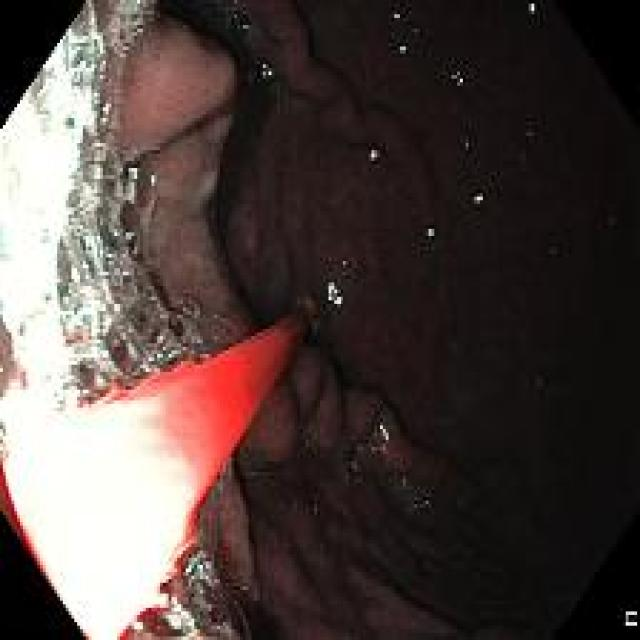bubbles: (82, 139, 189, 370), (56, 234, 107, 349), (186, 562, 248, 637), (70, 356, 142, 395), (124, 606, 200, 637), (109, 0, 154, 52), (217, 8, 251, 42), (340, 454, 364, 488), (411, 492, 432, 519), (269, 83, 285, 108), (393, 476, 411, 496), (299, 435, 317, 454)
color misalignment: (625, 611, 637, 626)
contrast: (473, 1, 638, 638)
instrument: (1, 304, 314, 638)
saturation: (3, 393, 198, 638), (2, 23, 103, 457)
specularity: (325, 281, 343, 308), (450, 69, 464, 87), (378, 421, 389, 443), (127, 166, 138, 183), (261, 63, 273, 77), (472, 192, 484, 204), (367, 147, 378, 159), (397, 44, 407, 55), (392, 11, 401, 23), (101, 102, 110, 114), (149, 172, 156, 187), (526, 4, 536, 13), (105, 250, 114, 259), (142, 364, 150, 374), (155, 336, 166, 343), (124, 230, 131, 241), (426, 227, 434, 236), (147, 354, 155, 362)
